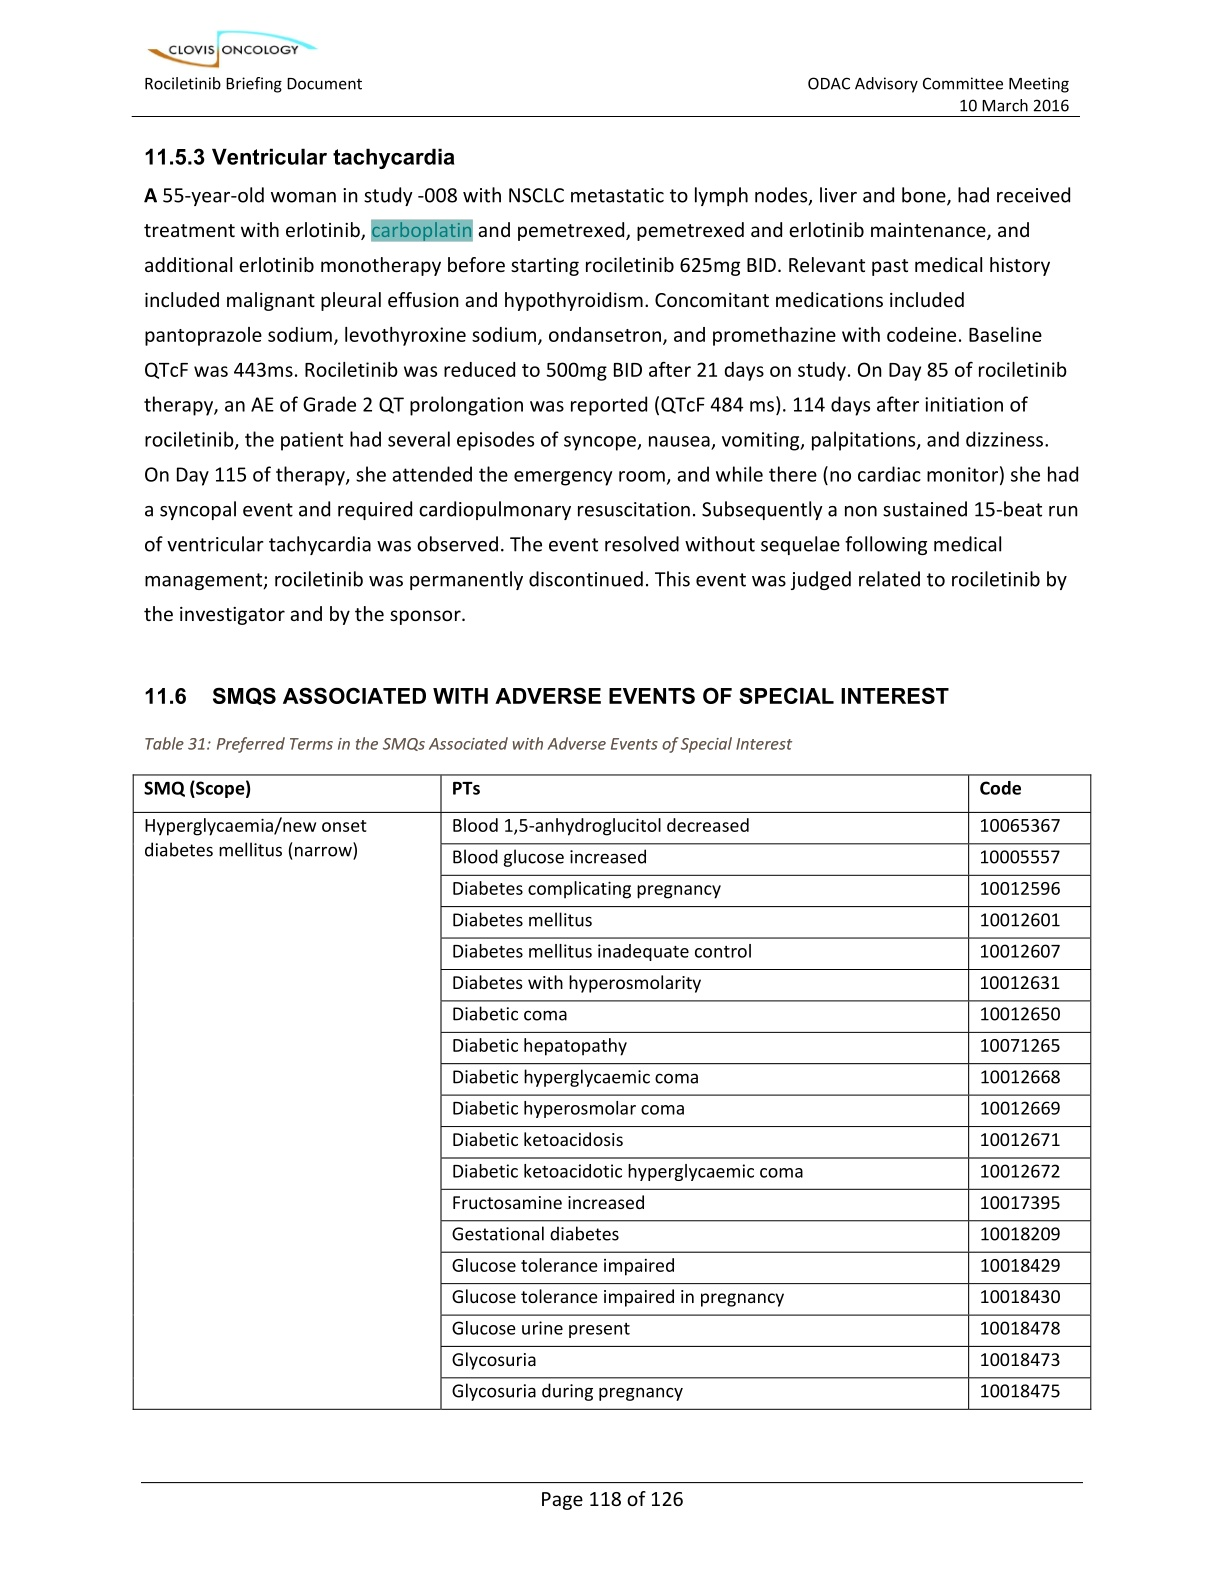merged_cells: (131, 771, 1093, 1410)
